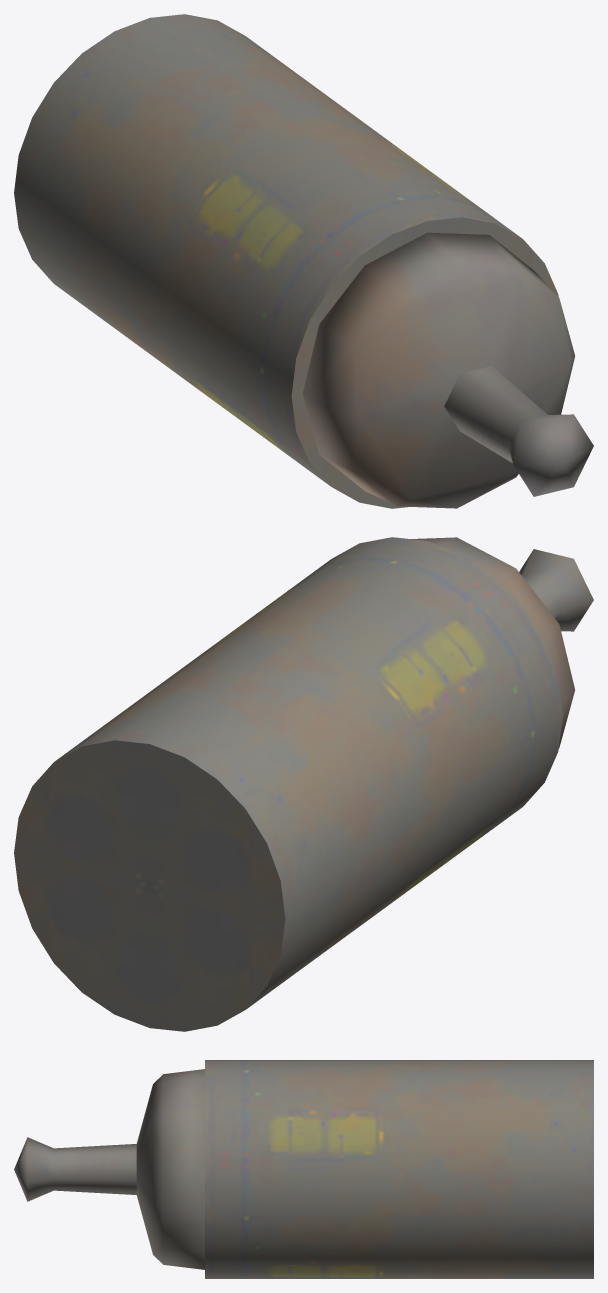
File: mag4.obj
The picture shows the model from 3 angles, top to bottom: view 1: azimuth 30°, elevation 25°; view 2: azimuth 150°, elevation 25°; view 3: azimuth 270°, elevation 25°; orthographic projection. The views are drawn at different scales.
Visible parts, largest first — view 1: mag4; view 2: mag4; view 3: mag4.
Boxes of the visible parts, left/top/right/bottom form: mag4: left=14, top=14, right=593, bottom=508; mag4: left=14, top=537, right=593, bottom=1031; mag4: left=14, top=1060, right=593, bottom=1278.
Bounding box in the file's own units: 6.69 × 6.69 × 17.66.
